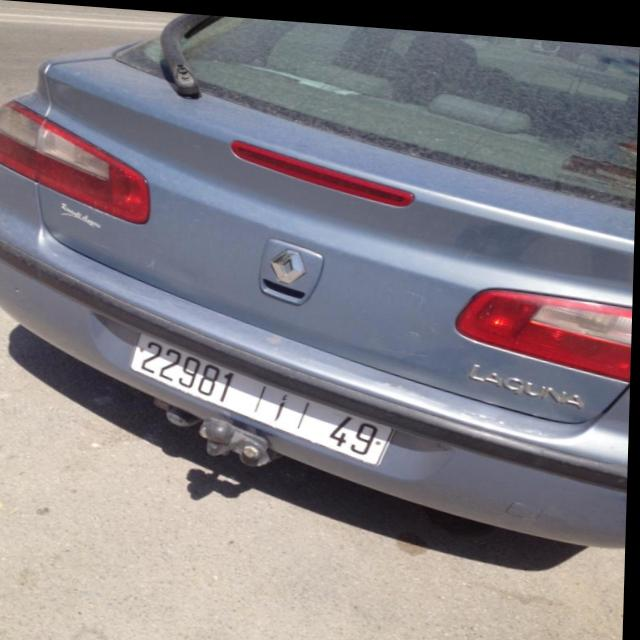License-Plate: (134, 331, 394, 458)
